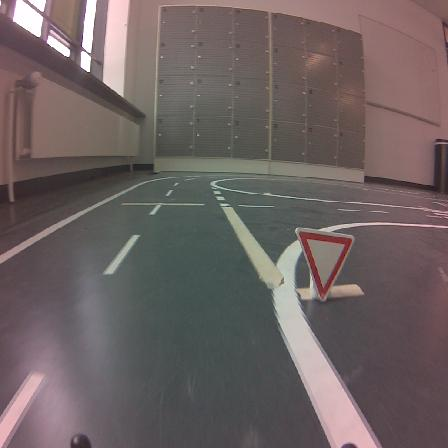GIVE_WAY: (296, 228, 353, 300)
